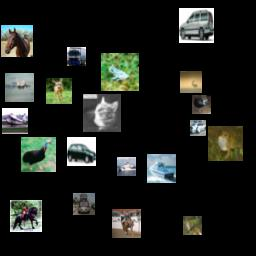airplane: (5, 73, 34, 102), (2, 108, 28, 134)
automobile: (179, 8, 214, 43), (67, 137, 96, 166), (190, 120, 206, 136)
bird: (21, 137, 56, 172), (192, 95, 211, 114)
cat: (83, 94, 121, 132)
deer: (46, 78, 72, 104), (180, 71, 202, 93), (183, 216, 202, 235)
frog: (101, 53, 139, 91), (208, 126, 243, 161)
ship: (147, 154, 176, 183), (117, 157, 136, 176)
truck: (73, 193, 95, 215), (67, 47, 86, 66)
